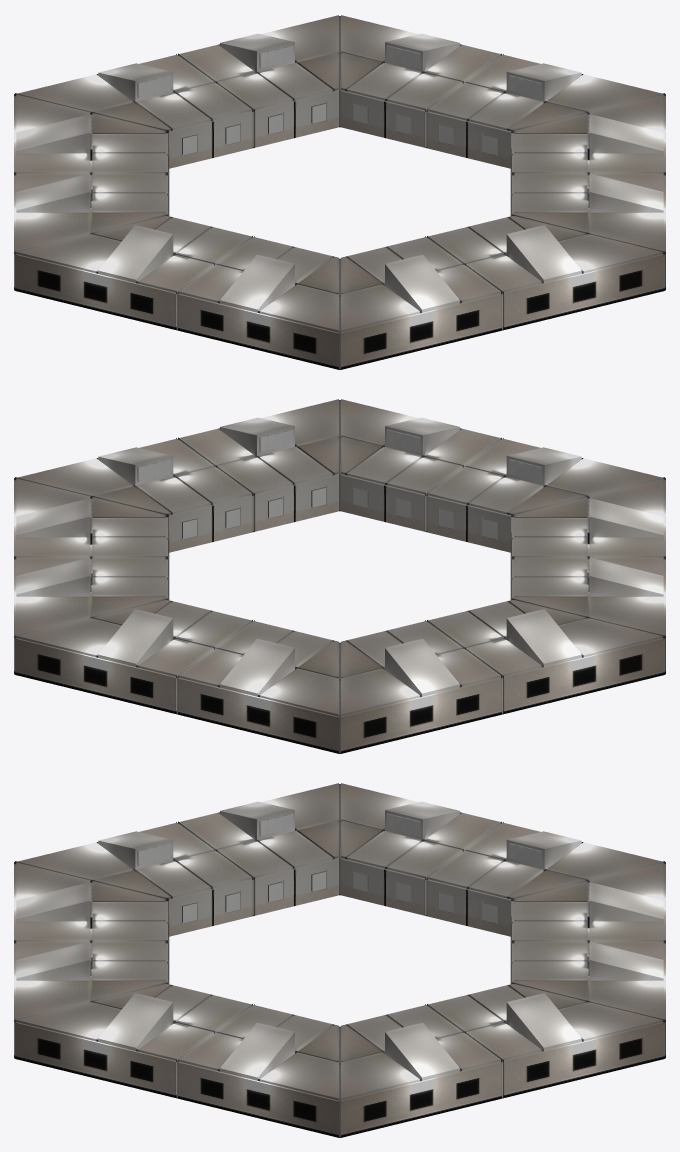
The model's file is vr_gallery.glb.
3 views of the same model, one above another, from view 1: azimuth 30°, elevation 25°; view 2: azimuth 150°, elevation 25°; view 3: azimuth 270°, elevation 25° (orthographic).
Visible parts, largest first — view 1: Material2 (×2); view 2: Material2 (×2); view 3: Material2 (×2).
Part boxes in pixels (bbox=[...]): Material2 (×2): bbox=[14, 15, 665, 369]; Material2 (×2): bbox=[14, 399, 665, 753]; Material2 (×2): bbox=[14, 783, 665, 1137].
Size of the model in its own units: 1662 by 142 by 1442.
Materials: 4 (3 with a texture image).
